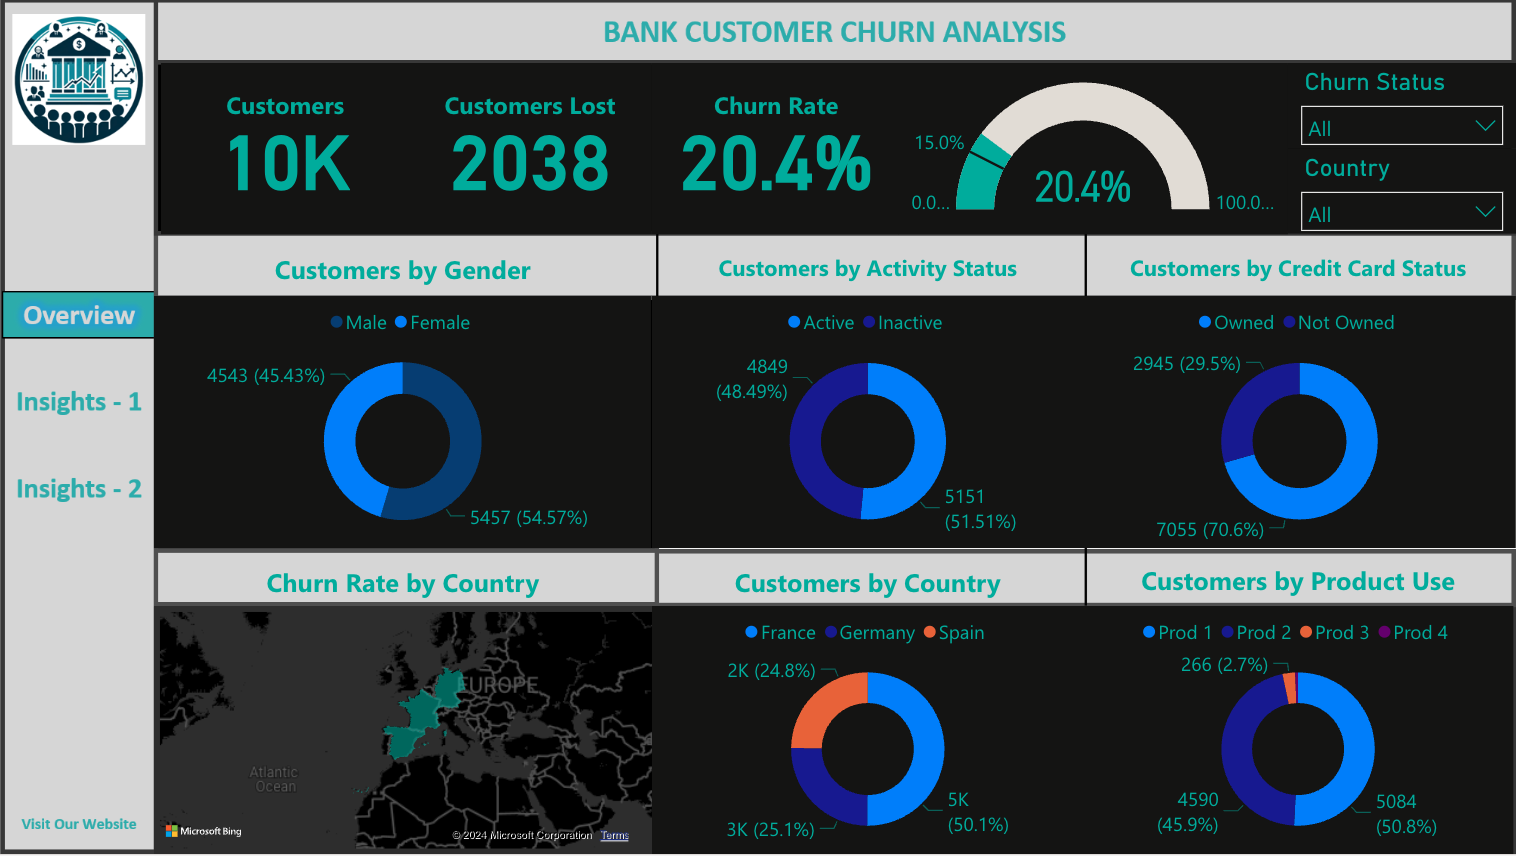

What the dashboard file says about the page in this screenshot:
{"tool":"powerbi","page":{"name":"Overview","canvas":[1280,720],"ordinal":0},"visuals":[{"type":"cardVisual","fields":{"Data":["Customer Data.Customers Lost"]},"box":[346.6,54.3,206,144.3],"z":0},{"type":"cardVisual","fields":{"Data":["Customer Data.Churn Rate"]},"box":[552.6,54.3,207.2,144.3],"z":1000},{"type":"gauge","fields":{"Y":["Customer Data.Churn Rate"],"MinValue":["Min(Customer Data.Min Churn Rate)"],"MaxValue":["Max(Customer Data.Max Churn Rate)"],"TargetValue":["Max(Customer Data.Target Churn Rate)"]},"box":[759.8,54.3,328.1,144.3],"z":2000},{"type":"cardVisual","fields":{"Data":["Customer Data.Customers"]},"box":[139.4,54.3,207.2,144.3],"z":3000},{"type":"slicer","fields":{"Values":["Customer Data.Churn Status"]},"box":[1087.8,54.3,191.8,72.4],"z":4000},{"type":"slicer","fields":{"Values":["Customer Data.Country"]},"box":[1087.8,126.6,191.8,71.2],"z":5000},{"type":"filledMap","fields":{"Category":["Customer Data.Country"]},"box":[133.9,511.4,429.4,208.6],"z":6000},{"type":"donutChart","fields":{"Category":["Customer Data.Gender"],"Y":["Customer Data.Customers"]},"box":[133.9,250.8,418.5,212.3],"z":7000},{"type":"textbox","box":[133.9,471.6,418.5,39.8],"z":8000},{"type":"textbox","box":[552.4,208.6,363,42.2],"z":9000},{"type":"textbox","box":[915.4,208.6,361.8,42.2],"z":10000},{"type":"textbox","box":[133.9,208.6,418.5,42.2],"z":11000},{"type":"donutChart","fields":{"Y":["Customer Data.Customers"],"Category":["Customer Data.Activity Status"]},"box":[552.4,250.8,363,212.3],"z":12000},{"type":"donutChart","fields":{"Y":["Customer Data.Customers"],"Category":["Customer Data.Credit Card Status"]},"box":[915.4,250.8,364.2,212.3],"z":13000},{"type":"donutChart","fields":{"Y":["Customer Data.Customers"],"Category":["Customer Data.Products"]},"box":[915.4,511.4,361.8,208.6],"z":14000},{"type":"donutChart","fields":{"Y":["Customer Data.Customers"],"Category":["Customer Data.Country"]},"box":[552.4,511.4,363,208.6],"z":15000},{"type":"textbox","box":[552.4,471.6,363,39.8],"z":16000},{"type":"textbox","box":[915.4,470.4,361.8,41],"z":17000},{"type":"actionButton","box":[8.4,318.4,125.4,39.8],"z":18000},{"type":"actionButton","box":[8.4,392,125.4,39.8],"z":19000},{"type":"actionButton","box":[8.4,674.2,125.4,39.8],"z":20000}]}

Visuals, with their boxes in screenshot pixels (x1, y1, x2, y2), scaled from the page's 1280x720 canvas onto the 1516x856 screenshot:
cardVisual - Customer Data.Customers Lost: pyautogui.locateOnScreen(411, 65, 654, 236)
cardVisual - Customer Data.Churn Rate: pyautogui.locateOnScreen(654, 65, 900, 236)
gauge - Customer Data.Churn Rate x Min(Customer Data.Min Churn Rate): pyautogui.locateOnScreen(900, 65, 1288, 236)
cardVisual - Customer Data.Customers: pyautogui.locateOnScreen(165, 65, 411, 236)
slicer - Customer Data.Churn Status: pyautogui.locateOnScreen(1288, 65, 1515, 151)
slicer - Customer Data.Country: pyautogui.locateOnScreen(1288, 151, 1515, 235)
filledMap - Customer Data.Country: pyautogui.locateOnScreen(159, 608, 667, 855)
donutChart - Customer Data.Gender x Customer Data.Customers: pyautogui.locateOnScreen(159, 298, 654, 551)
textbox: pyautogui.locateOnScreen(159, 561, 654, 608)
textbox: pyautogui.locateOnScreen(654, 248, 1084, 298)
textbox: pyautogui.locateOnScreen(1084, 248, 1513, 298)
textbox: pyautogui.locateOnScreen(159, 248, 654, 298)
donutChart - Customer Data.Customers x Customer Data.Activity Status: pyautogui.locateOnScreen(654, 298, 1084, 551)
donutChart - Customer Data.Customers x Customer Data.Credit Card Status: pyautogui.locateOnScreen(1084, 298, 1515, 551)
donutChart - Customer Data.Customers x Customer Data.Products: pyautogui.locateOnScreen(1084, 608, 1513, 855)
donutChart - Customer Data.Customers x Customer Data.Country: pyautogui.locateOnScreen(654, 608, 1084, 855)
textbox: pyautogui.locateOnScreen(654, 561, 1084, 608)
textbox: pyautogui.locateOnScreen(1084, 559, 1513, 608)
actionButton: pyautogui.locateOnScreen(10, 379, 158, 426)
actionButton: pyautogui.locateOnScreen(10, 466, 158, 513)
actionButton: pyautogui.locateOnScreen(10, 802, 158, 849)
